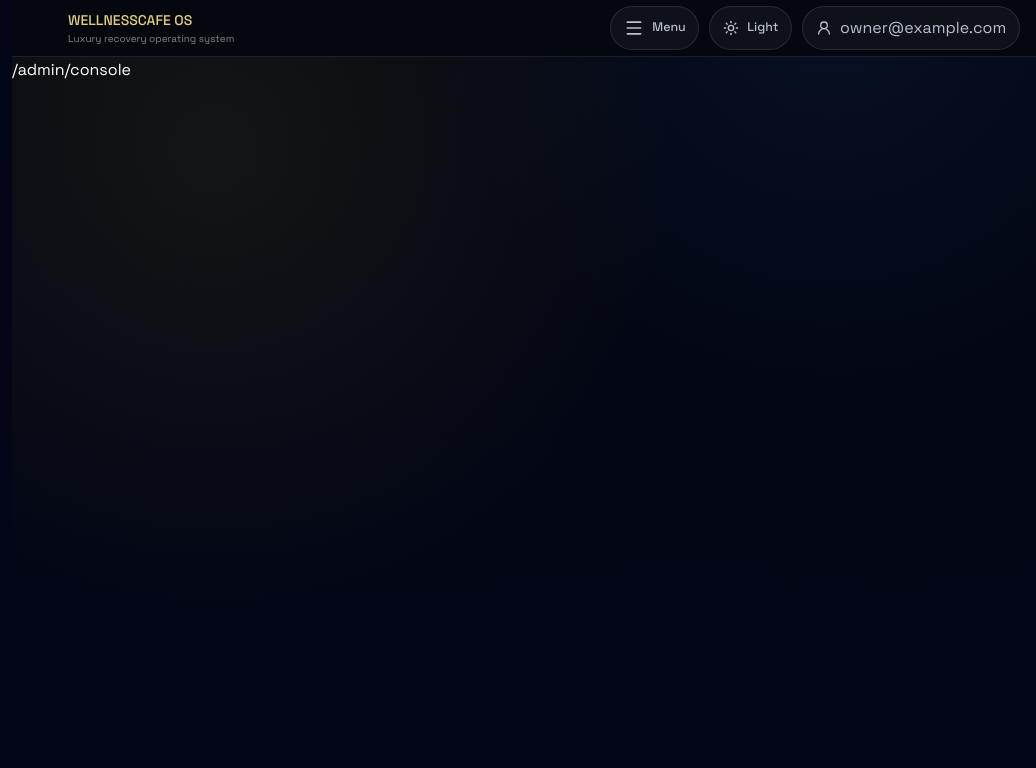
Test: AppTopBar role-separated navigation › gives God-Eye a visible dashboard switcher and same-account practitioner access link
This screenshot has width=1036, height=768.
Step 1. Click the button with aria-label "Open navigation menu" → (655, 28), box [610,6,699,50]
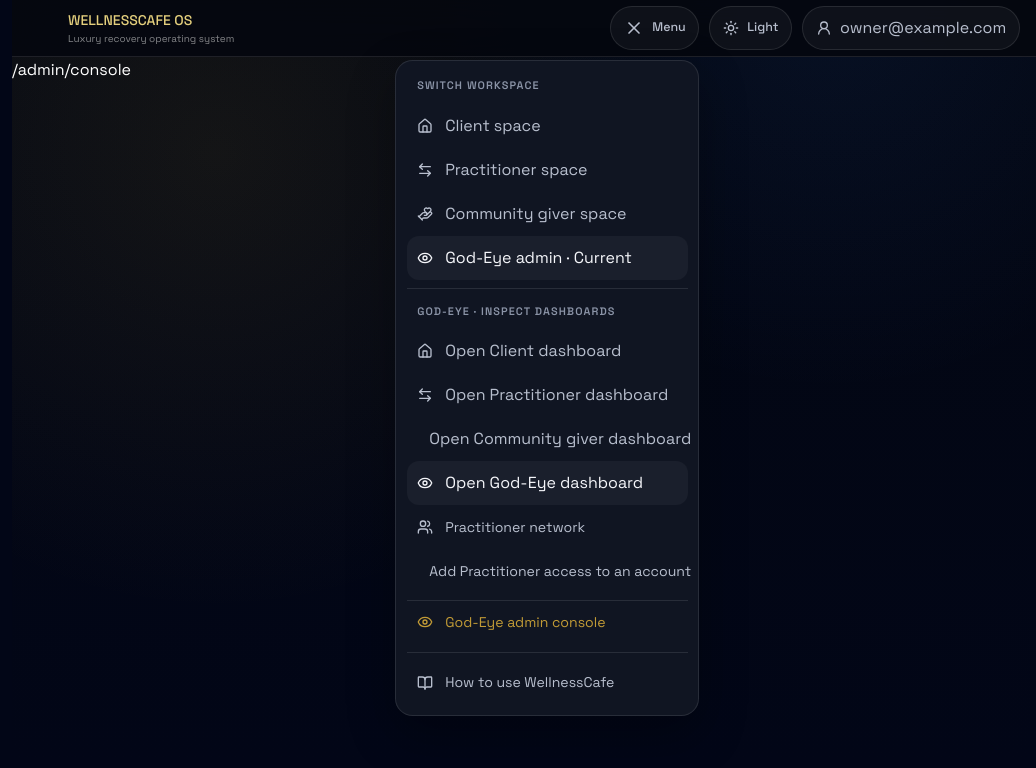
expect the element named "God-Eye dashboard access" is shown: met, box [407,288,688,593]
expect the button "Open Client dashboard" is shown: met, box [407,329,688,373]
expect the button "Open Practitioner dashboard" is shown: met, box [407,373,688,417]
